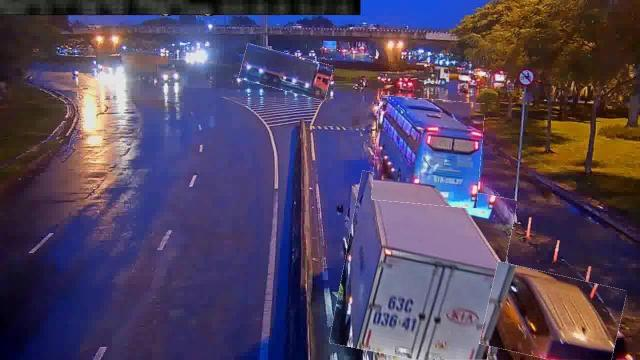Bus: (373, 98, 482, 206)
Car: (483, 268, 623, 360)
Truck: (337, 177, 511, 359), (240, 49, 332, 96)
